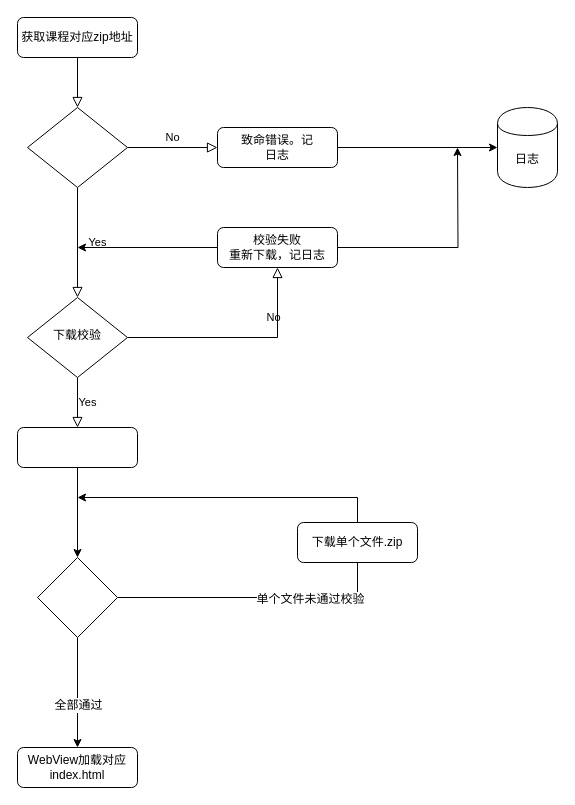
This 575x805 diagram has some shape labels left out. The centre of each missing label's shape, as x and y in pixels:
"是否存在" goes at (x=77, y=147).
"解压" goes at (x=77, y=447).
"逐文件校验" goes at (x=77, y=597).
